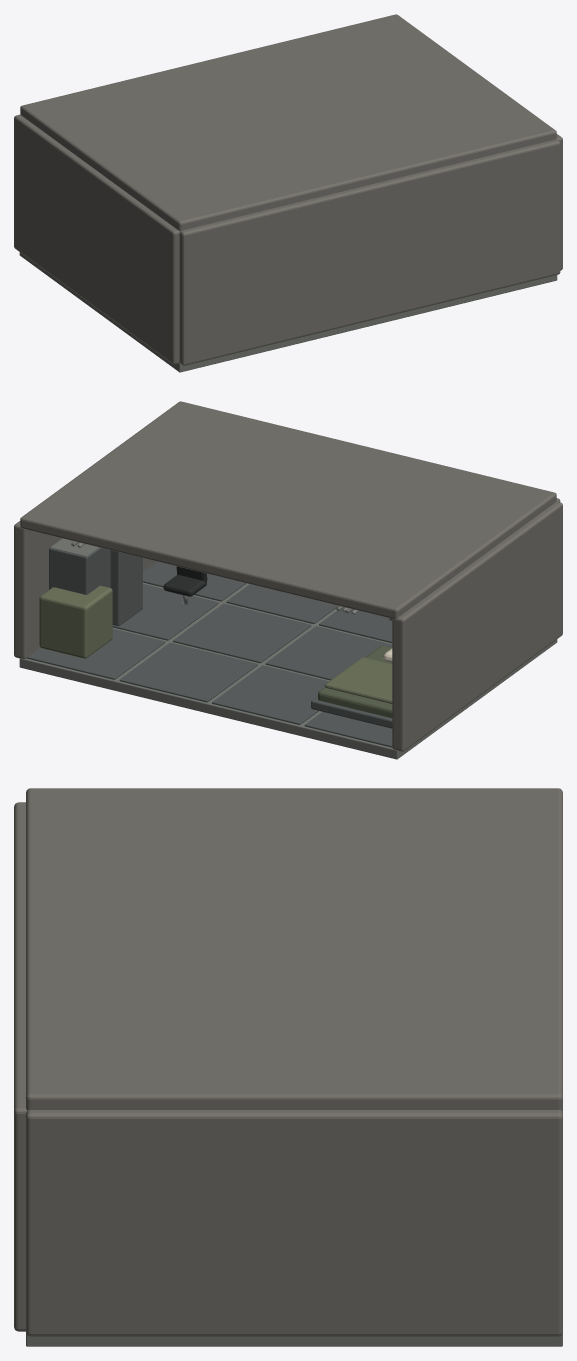
The model's file is shelter47_aaa_interior.glb.
The picture shows the model from 3 angles, top to bottom: view 1: azimuth 30°, elevation 25°; view 2: azimuth 150°, elevation 25°; view 3: azimuth 270°, elevation 25°; orthographic projection. The views are drawn at different scales.
Visible parts, largest first — view 1: Ceiling, Back, Left, Floor; view 2: Ceiling, Left, Floor, FloorPlate.008, FloorPlate.007, Generator, FloorPlate.005, Right, FloorPlate.004, FloorPlate.011, FloorPlate.010, RightRack.001 (+9 smaller); view 3: Ceiling, Right, Back, Floor.
Part boxes in pixels (box(x1,y1,x2,y2)): Ceiling: box(20, 14, 556, 231); Back: box(179, 139, 560, 365); Left: box(14, 114, 179, 364); Floor: box(19, 252, 557, 372); Ceiling: box(20, 401, 556, 618); Left: box(392, 501, 562, 751); Floor: box(19, 582, 557, 759); FloorPlate.008: box(119, 642, 257, 702); FloorPlate.007: box(173, 603, 311, 663); Generator: box(39, 585, 112, 658); FloorPlate.005: box(212, 665, 328, 724); Right: box(14, 521, 156, 658); FloorPlate.004: box(265, 626, 392, 680); FloorPlate.011: box(27, 628, 165, 679); FloorPlate.010: box(112, 584, 218, 640); RightRack.001: box(49, 547, 110, 594); Ceiling: box(26, 788, 562, 1110); Right: box(26, 1110, 562, 1336); Back: box(14, 802, 27, 1331); Floor: box(26, 1109, 562, 1346).
Bounding box in the file's own units: 10.12 × 3.72 × 7.36.
